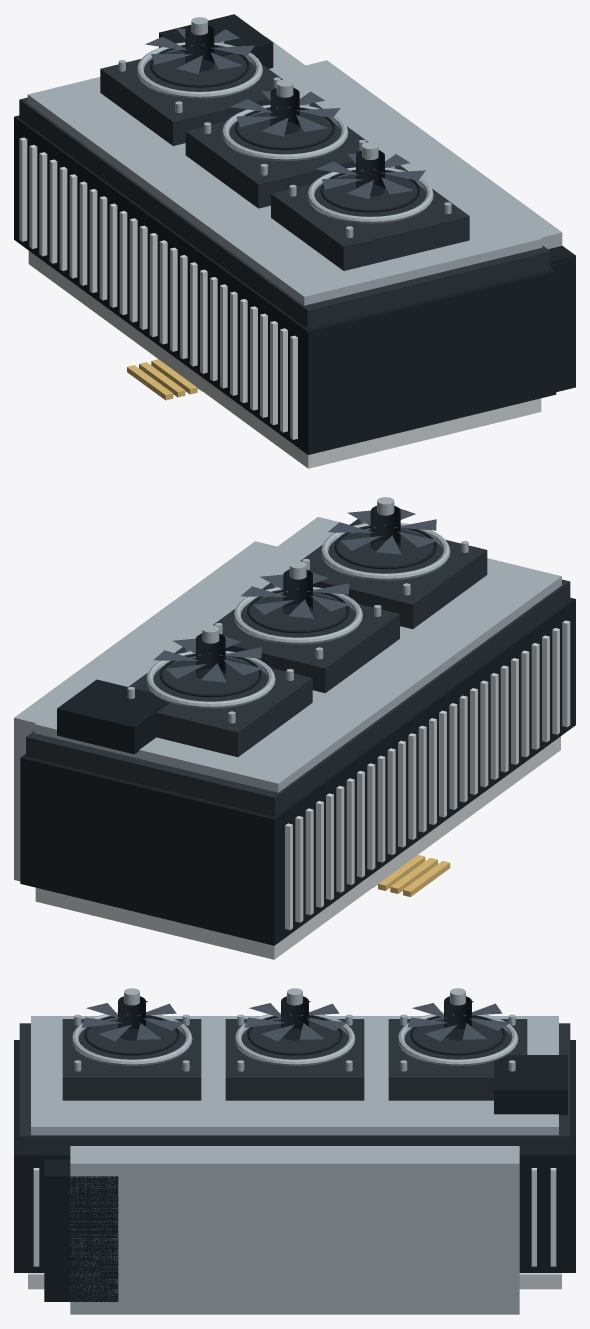
3 renders of one model, top to bottom at view 1: azimuth 30°, elevation 25°; view 2: azimuth 150°, elevation 25°; view 3: azimuth 270°, elevation 25°, orthographic. The views are drawn at different scales.
Visible parts, largest first — view 1: rx7800xt; view 2: rx7800xt; view 3: rx7800xt.
Boxes of the visible parts, box(x1,y1,x2,y2) form: rx7800xt: box(14, 14, 575, 468); rx7800xt: box(14, 497, 575, 959); rx7800xt: box(14, 988, 575, 1314).
Bounding box in the file's own units: 0.6992 × 0.6235 × 1.21.
